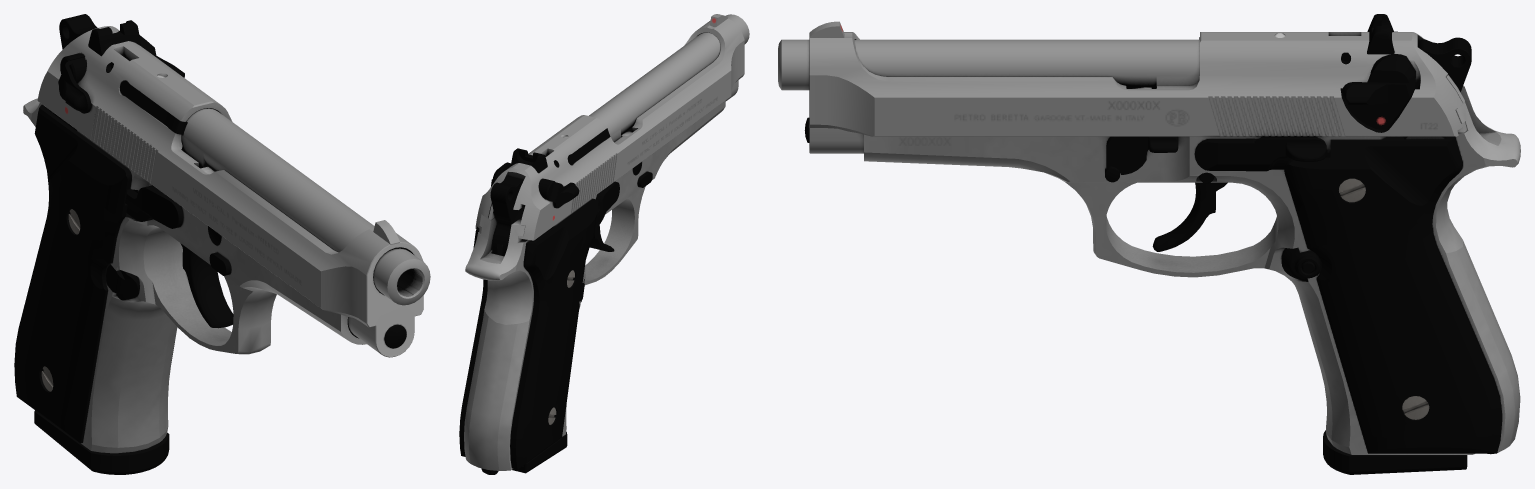
3 views of the same model, side by side, from view 1: azimuth 30°, elevation 25°; view 2: azimuth 150°, elevation 25°; view 3: azimuth 270°, elevation 25° (orthographic). The views are drawn at different scales.
Visible parts, largest first — view 1: 98_92_fs_inox_guance_plastica_0; view 2: 98_92_fs_inox_guance_plastica_0; view 3: 98_92_fs_inox_guance_plastica_0.
Boxes of the visible parts, bbox=[...] form: 98_92_fs_inox_guance_plastica_0: bbox=[14, 14, 430, 474]; 98_92_fs_inox_guance_plastica_0: bbox=[459, 14, 749, 474]; 98_92_fs_inox_guance_plastica_0: bbox=[778, 14, 1520, 474].
Size of the model in its own units: 0.0395 by 0.1397 by 0.216.
Materials: 1 (1 with a texture image).
